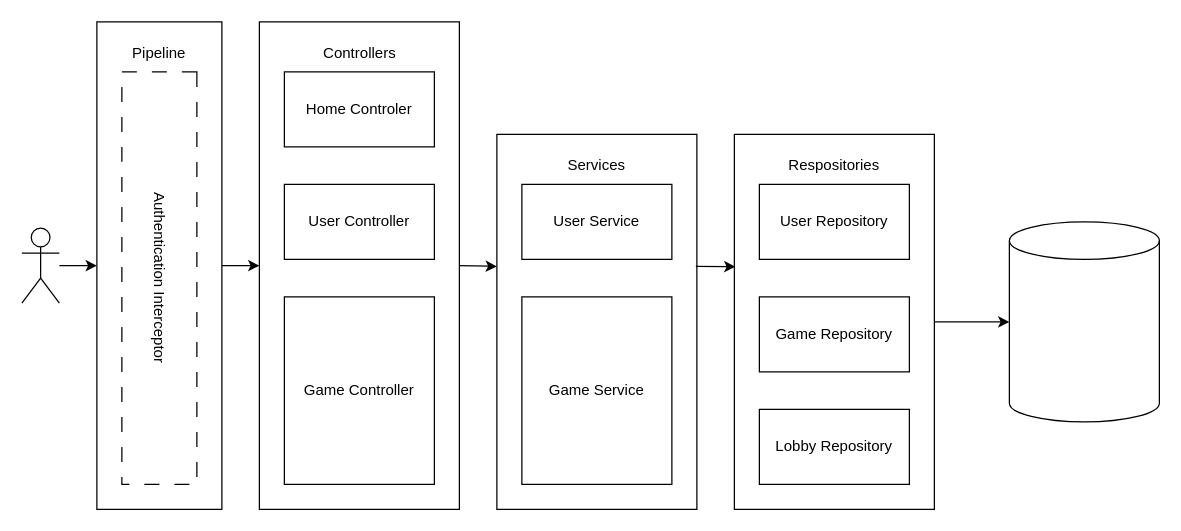
The diagram is 1181 pixels wide and 531 high, and some of its shapes have lost their labels. Each missing label, with the centre of its shape:
Actor: (x=40, y=265)
Postgres DB: (x=1083, y=321)
